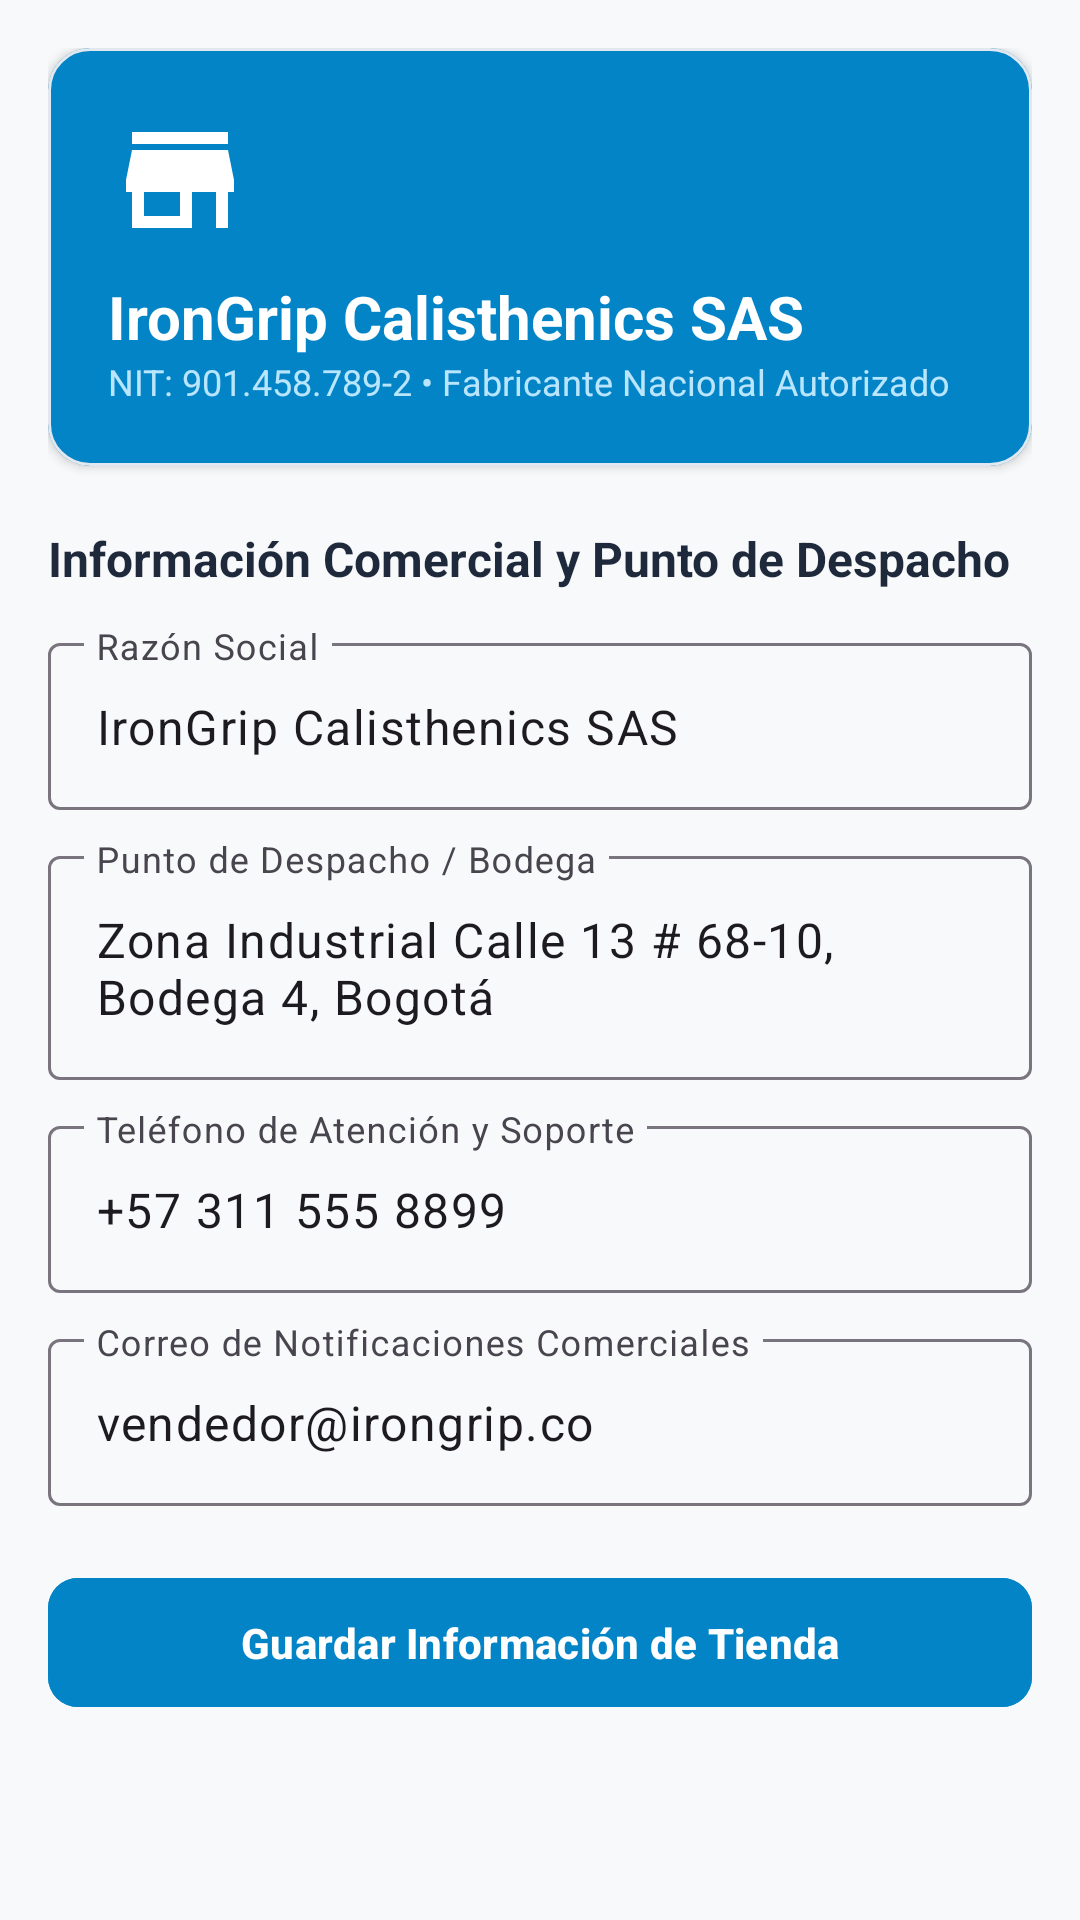

Named icons in this screenshot (1080px×1920px) and their centers, point (x, y):
Tienda: point (180, 180)
